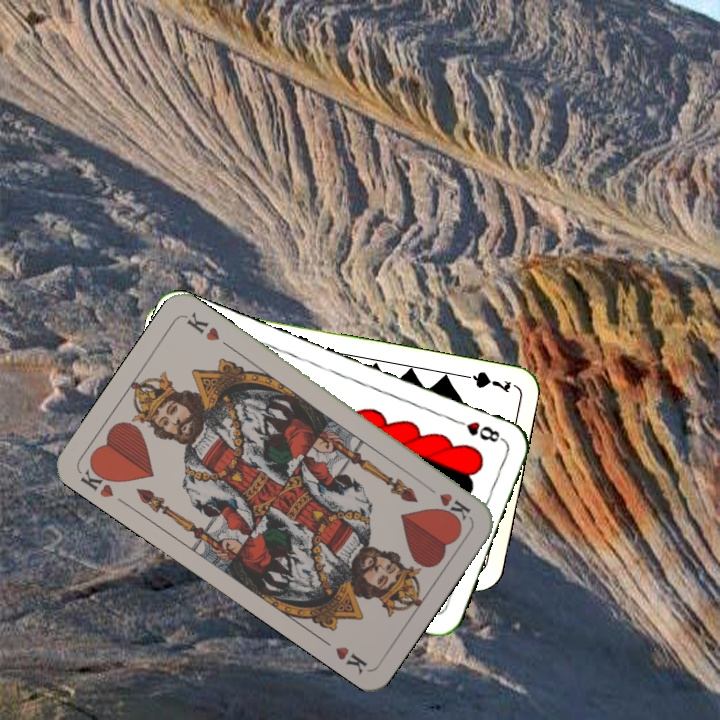G7: (455, 367, 514, 396)
H8: (449, 415, 506, 445)
HK: (420, 480, 473, 523), (76, 459, 120, 501)
